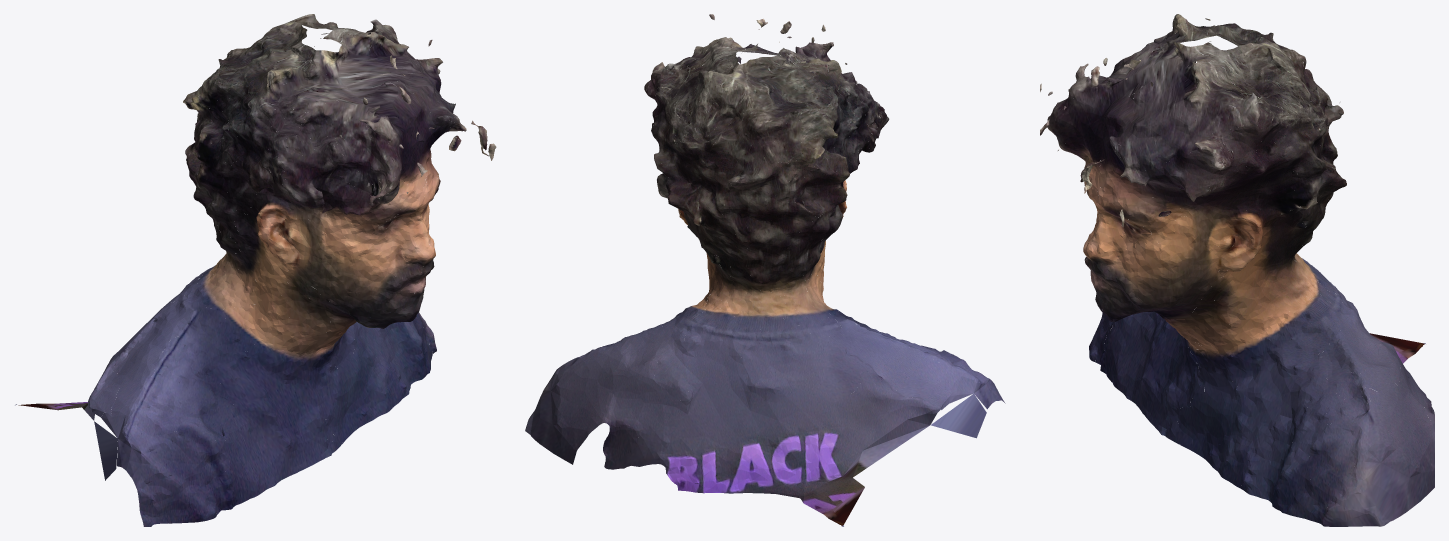
3 renders of one model, left to right at view 1: azimuth 30°, elevation 25°; view 2: azimuth 150°, elevation 25°; view 3: azimuth 270°, elevation 25°, orthographic. The views are drawn at different scales.
Visible parts, largest first — view 1: mesh; view 2: mesh; view 3: mesh.
Part boxes in pixels (box(x1,y1,x2,y2)): mesh: box(15, 14, 496, 526); mesh: box(525, 14, 1005, 526); mesh: box(1040, 14, 1434, 526).
Size of the model in its own units: 0.4225 by 0.399 by 0.357.
Materials: 1 (1 with a texture image).
